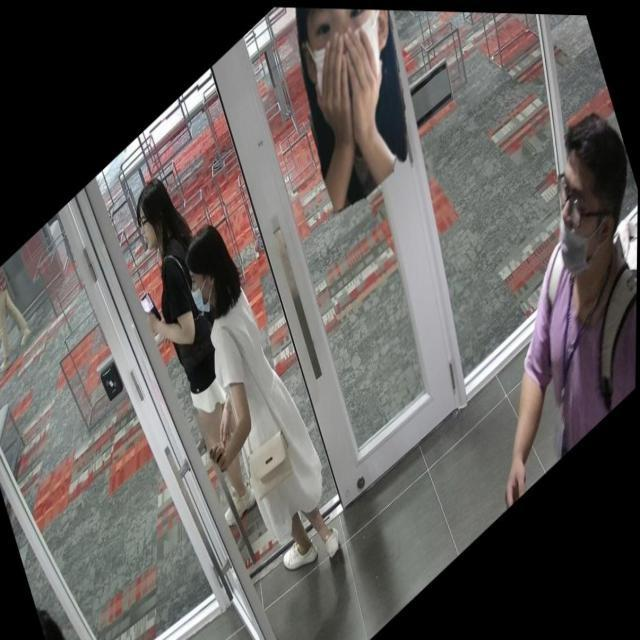hairnet: (553, 204, 620, 286)
